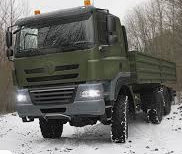truck: (7, 1, 179, 147)
